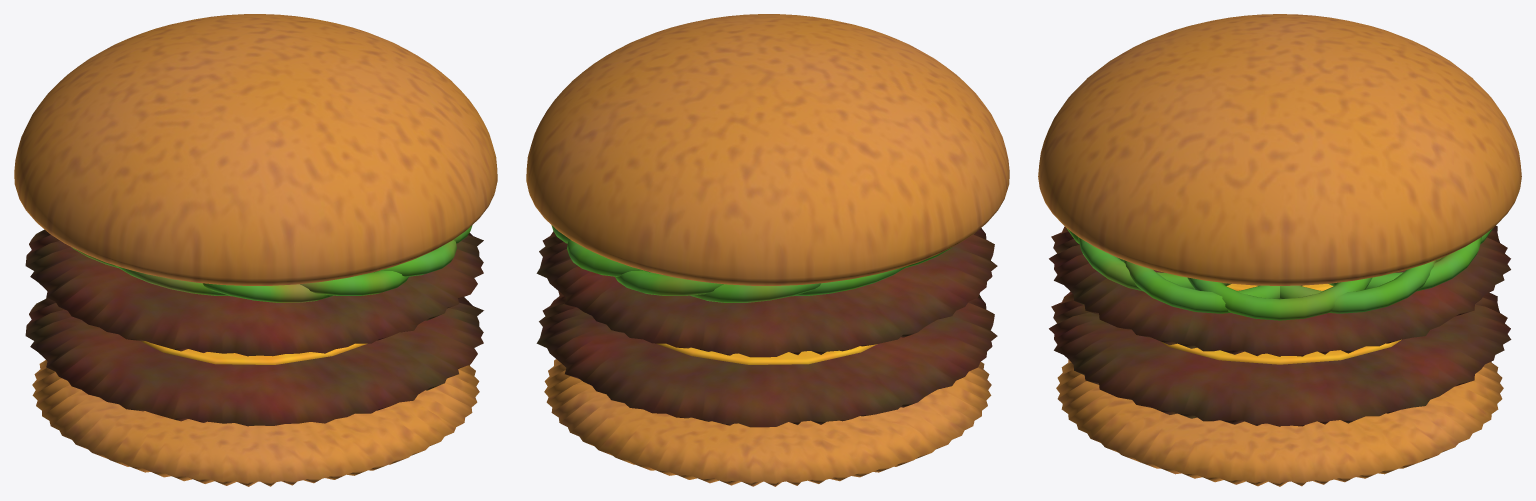
The model's file is golden-oak-signature-burger-high.glb.
The picture shows the model from 3 angles, left to right: view 1: azimuth 30°, elevation 25°; view 2: azimuth 150°, elevation 25°; view 3: azimuth 270°, elevation 25°; orthographic projection.
Visible parts, largest first — view 1: Mesh_Signature_Brioche_Buns, Mesh_Double_Angus_Patties, Mesh_Signature_Lettuce_Tomato_Onion, Mesh_Double_Smoked_Cheddar; view 2: Mesh_Signature_Brioche_Buns, Mesh_Double_Angus_Patties, Mesh_Signature_Lettuce_Tomato_Onion, Mesh_Double_Smoked_Cheddar; view 3: Mesh_Signature_Brioche_Buns, Mesh_Double_Angus_Patties, Mesh_Signature_Lettuce_Tomato_Onion, Mesh_Double_Smoked_Cheddar.
Boxes of the visible parts, <box> form: Mesh_Signature_Brioche_Buns: <box>14,14,497,486</box>; Mesh_Double_Angus_Patties: <box>25,229,483,426</box>; Mesh_Signature_Lettuce_Tomato_Onion: <box>71,225,472,302</box>; Mesh_Double_Smoked_Cheddar: <box>141,341,367,364</box>; Mesh_Signature_Brioche_Buns: <box>526,14,1009,486</box>; Mesh_Double_Angus_Patties: <box>536,228,997,427</box>; Mesh_Signature_Lettuce_Tomato_Onion: <box>551,225,952,302</box>; Mesh_Double_Smoked_Cheddar: <box>656,343,877,364</box>; Mesh_Signature_Brioche_Buns: <box>1038,14,1521,486</box>; Mesh_Double_Angus_Patties: <box>1049,226,1511,426</box>; Mesh_Signature_Lettuce_Tomato_Onion: <box>1067,228,1492,320</box>; Mesh_Double_Smoked_Cheddar: <box>1161,284,1401,364</box>.
Size of the model in its own units: 2 by 1.68 by 2.
4 materials, 4 textured.
